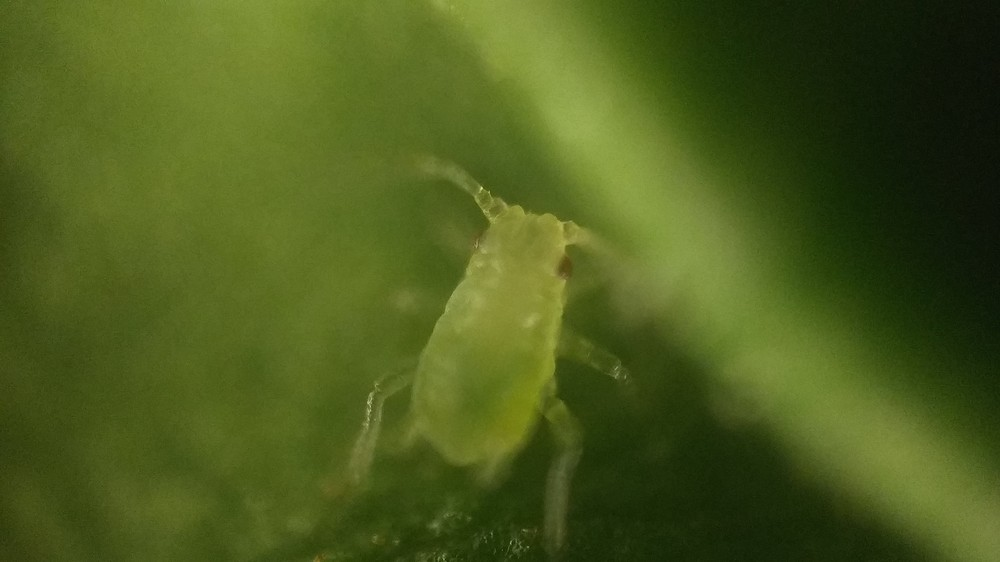Pulgon: (317, 131, 699, 560)
